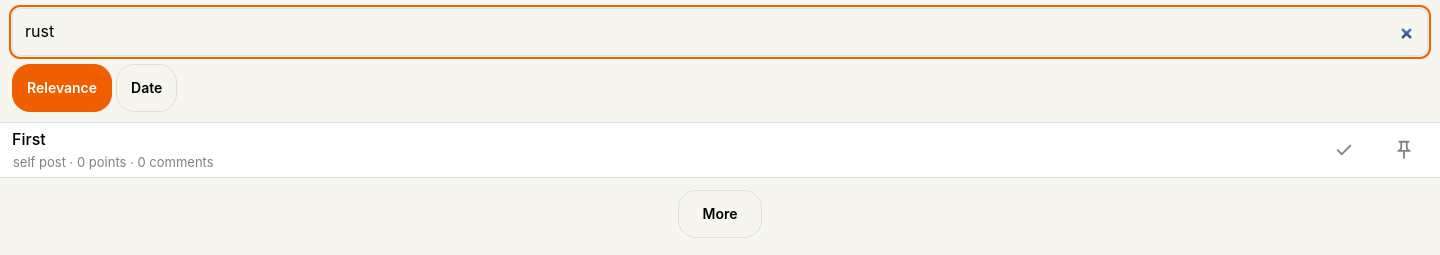
Test: <SearchPage> › appends the next page when More is pressed
Expected: the text "First" is shown, [12, 129, 46, 149]
What coordinates should you click on to do the following:
click the button with test id "search-more"
I would click on:
 (720, 214)
Its box is [678, 190, 762, 238].
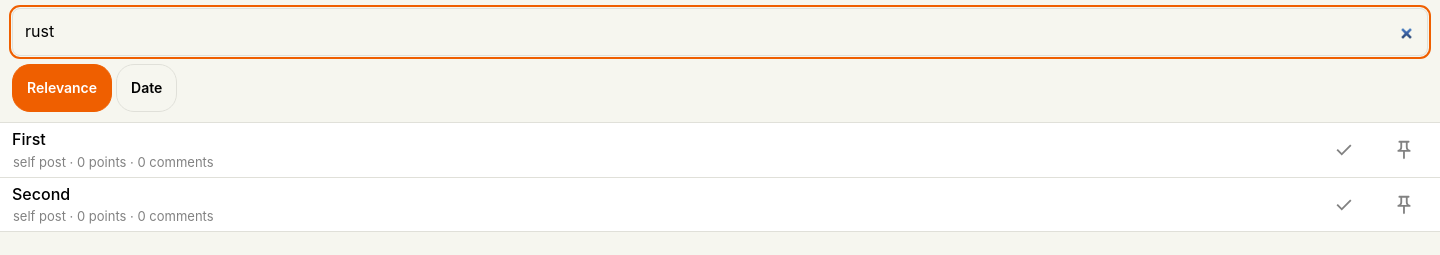
Expected: the text "Second" is shown, [12, 184, 70, 204]
